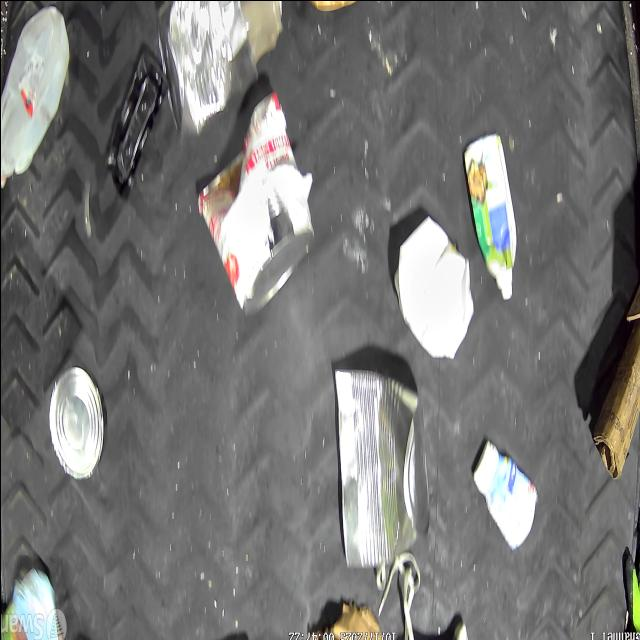can: (196, 90, 314, 316), (334, 366, 429, 568), (155, 0, 259, 139), (45, 361, 102, 478)
milk_jug: (0, 6, 72, 187), (393, 214, 475, 358)
